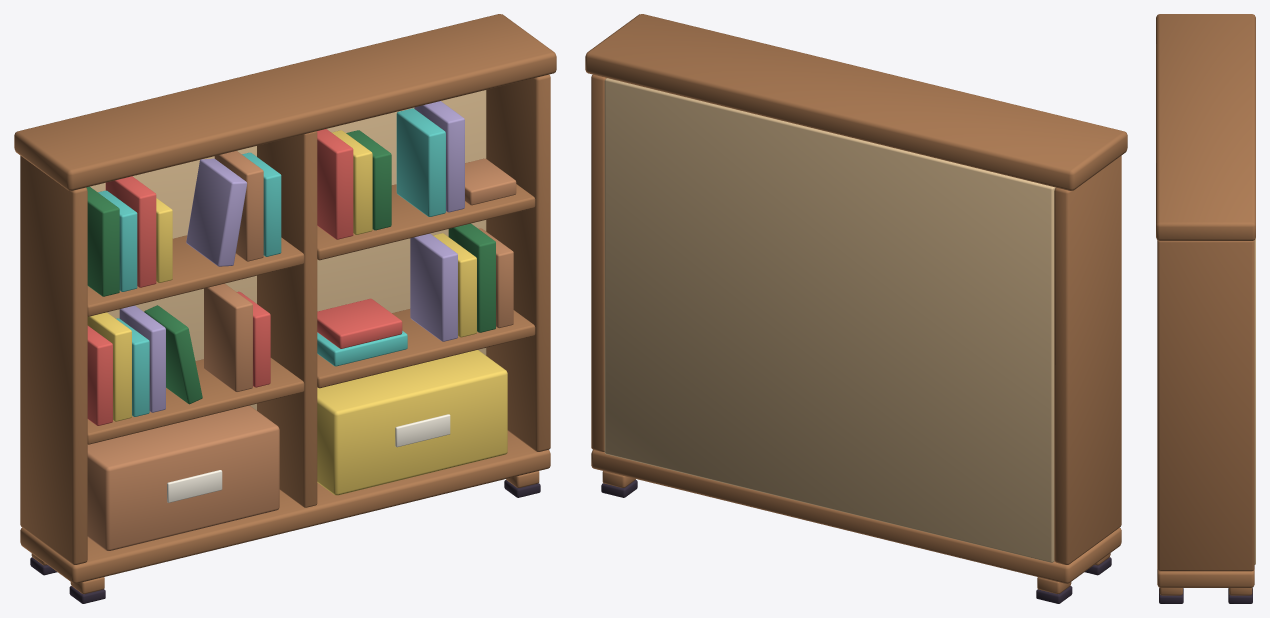
File: bookshelf.glb
The picture shows the model from 3 angles, left to right: view 1: azimuth 30°, elevation 25°; view 2: azimuth 150°, elevation 25°; view 3: azimuth 270°, elevation 25°; orthographic projection. The views are drawn at different scales.
Parts seen in each view (by area): view 1: FurnBookshelf_Frame, FurnBookshelf_BinsTerra, FurnBookshelf_BinsButter, FurnBookshelf_BackPanel, FurnBookshelf_BooksLav, FurnBookshelf_BooksCoral, FurnBookshelf_BooksTurq, FurnBookshelf_BooksGreen, FurnBookshelf_PagesLabels, FurnBookshelf_Glides; view 2: FurnBookshelf_BackPanel, FurnBookshelf_Frame, FurnBookshelf_Glides; view 3: FurnBookshelf_Frame, FurnBookshelf_BackPanel, FurnBookshelf_Glides.
Boxes of the visible parts, x1,y1,x2,y2 form: FurnBookshelf_Frame: (14, 14, 556, 594); FurnBookshelf_BinsTerra: (87, 151, 516, 551); FurnBookshelf_BinsButter: (87, 130, 507, 495); FurnBookshelf_BackPanel: (90, 90, 486, 410); FurnBookshelf_BooksLav: (119, 101, 464, 412); FurnBookshelf_BooksCoral: (87, 129, 402, 425); FurnBookshelf_BooksTurq: (98, 108, 445, 416); FurnBookshelf_BooksGreen: (86, 130, 495, 404); FurnBookshelf_PagesLabels: (167, 414, 450, 502); FurnBookshelf_Glides: (30, 480, 540, 603); FurnBookshelf_BackPanel: (604, 78, 1055, 562); FurnBookshelf_Frame: (585, 14, 1127, 593); FurnBookshelf_Glides: (601, 480, 1111, 603); FurnBookshelf_Frame: (1156, 14, 1255, 595); FurnBookshelf_BackPanel: (1254, 238, 1255, 564); FurnBookshelf_Glides: (1159, 588, 1252, 603).
Bounding box in the file's own units: 1.8 × 1.54 × 0.36.
